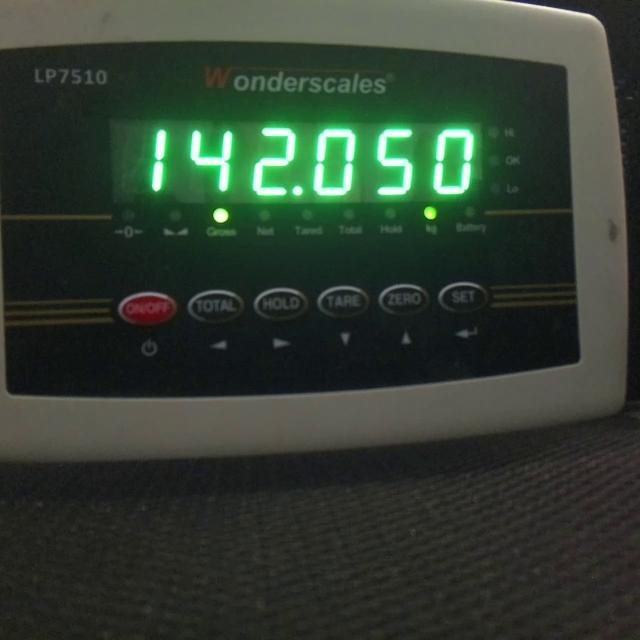.: (292, 185, 304, 197)
0: (313, 127, 356, 195), (433, 128, 473, 194)
1: (150, 126, 169, 196)
2: (252, 127, 297, 196)
4: (190, 128, 232, 193)
5: (374, 128, 414, 196)
